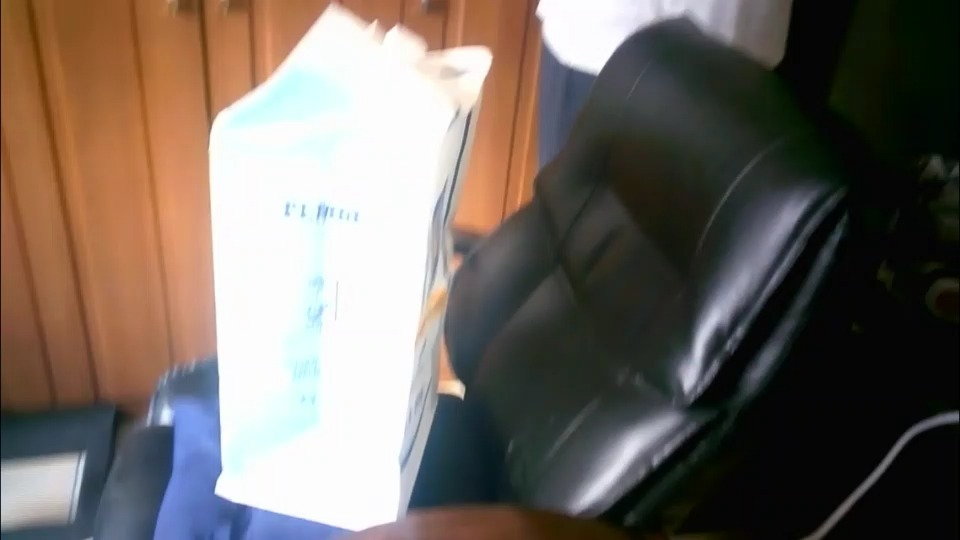wheat_flour_blue_label: (213, 11, 478, 519)
